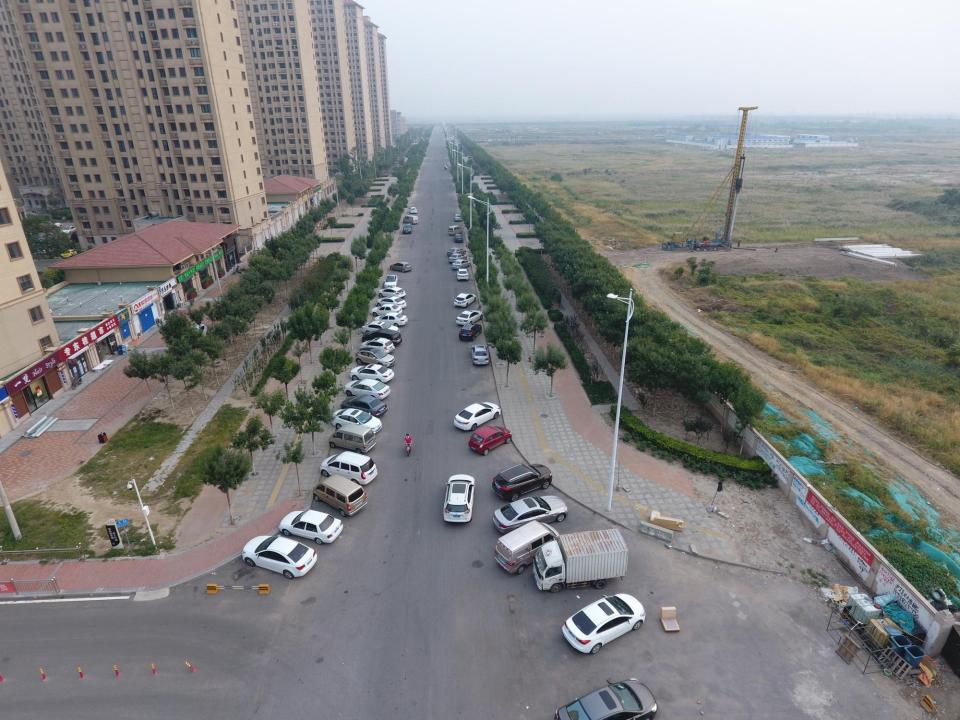car: (562, 594, 646, 654), (554, 678, 658, 720), (242, 534, 317, 580), (492, 496, 568, 534), (278, 509, 343, 544), (492, 463, 552, 500), (320, 451, 377, 484), (443, 474, 475, 522), (330, 408, 382, 434), (454, 401, 500, 430), (468, 426, 512, 456), (340, 394, 388, 418), (344, 378, 390, 400), (349, 364, 394, 382), (355, 348, 395, 366), (362, 328, 402, 346), (360, 337, 396, 354), (373, 312, 408, 327), (362, 321, 400, 334), (455, 310, 483, 326), (186, 322, 207, 342), (459, 323, 482, 341), (371, 304, 402, 316), (376, 296, 406, 308), (454, 292, 476, 308), (471, 345, 489, 364), (378, 286, 406, 298), (36, 232, 54, 245), (390, 262, 412, 272), (451, 259, 471, 269), (448, 253, 467, 263), (384, 275, 398, 288), (447, 247, 466, 256), (456, 268, 469, 280), (60, 249, 76, 258), (38, 222, 62, 228), (60, 226, 77, 234), (402, 223, 413, 233), (453, 234, 463, 242), (454, 214, 462, 221), (409, 207, 417, 213)
truck: (528, 528, 629, 594)
van: (494, 520, 560, 574), (313, 474, 368, 516), (328, 423, 376, 454), (402, 215, 419, 224), (448, 224, 463, 234)
